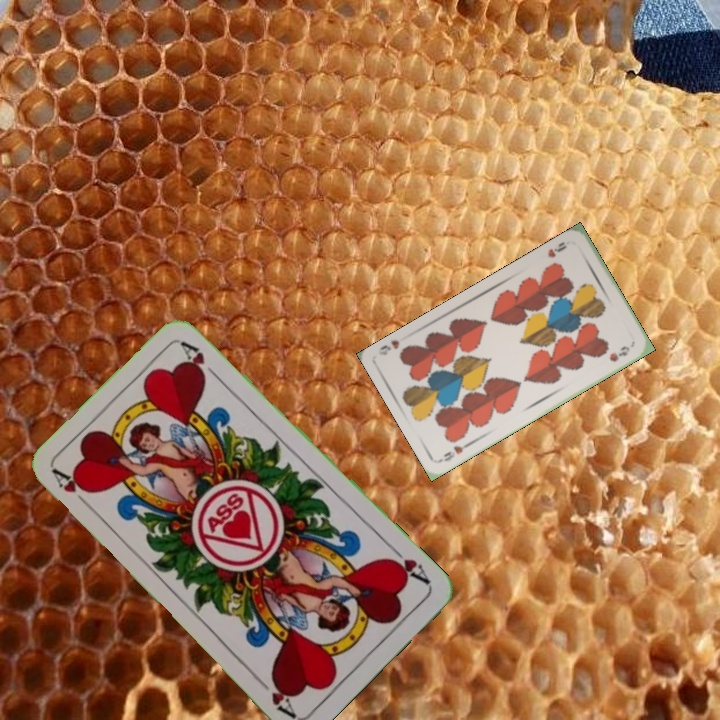H9: (436, 438, 473, 464), (543, 238, 569, 260)
HA: (382, 541, 433, 588), (49, 465, 96, 514)
